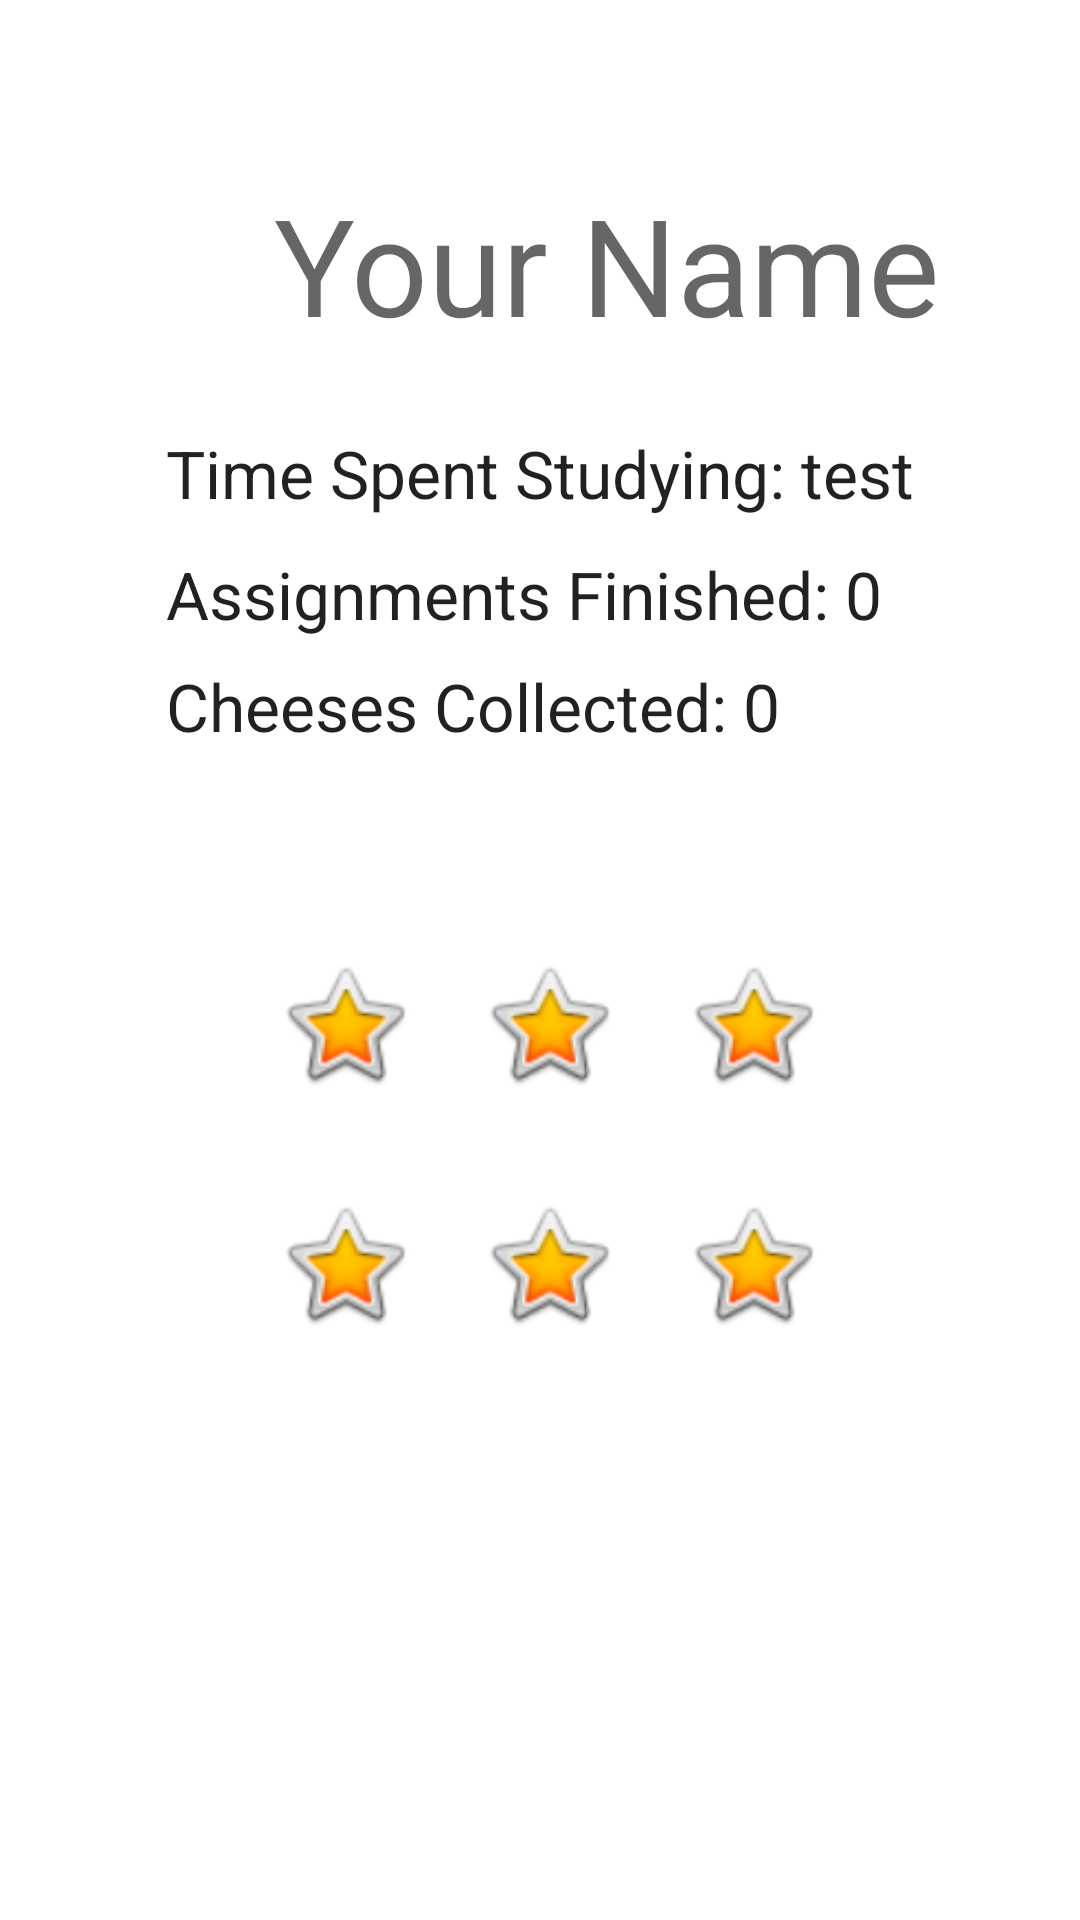

Screen size 1080px x 1920px. Icon name, then its box in pixels as (x1, y1, x2, y2):
star on: (287, 968, 405, 1083), (491, 968, 609, 1083), (695, 968, 813, 1083), (287, 1208, 405, 1323), (491, 1208, 609, 1323), (695, 1208, 813, 1323)
